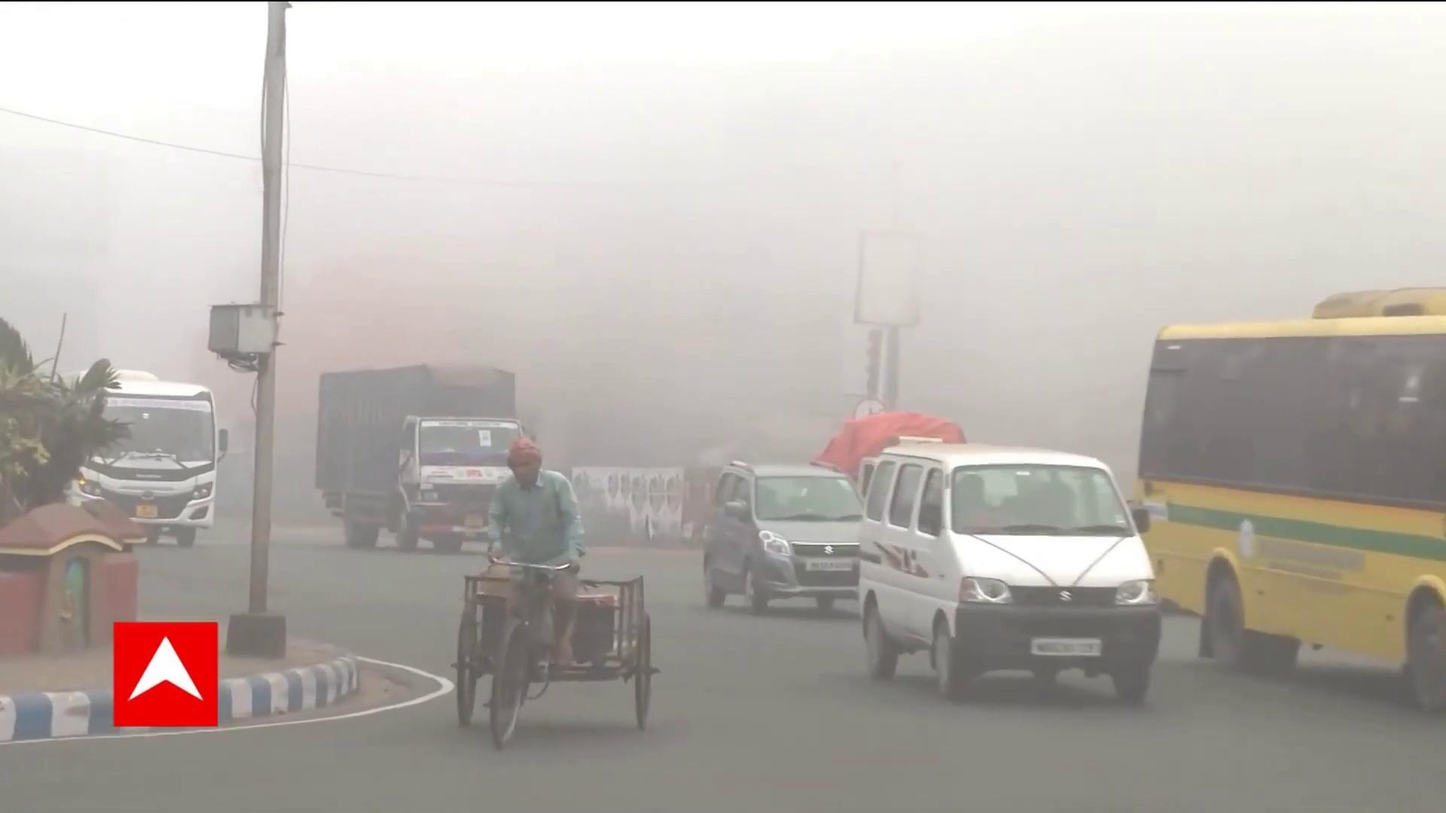Bus: (1139, 279, 1446, 696), (66, 366, 230, 544)
Car: (850, 429, 1163, 703), (698, 451, 857, 617)
Truck: (310, 355, 518, 553)
